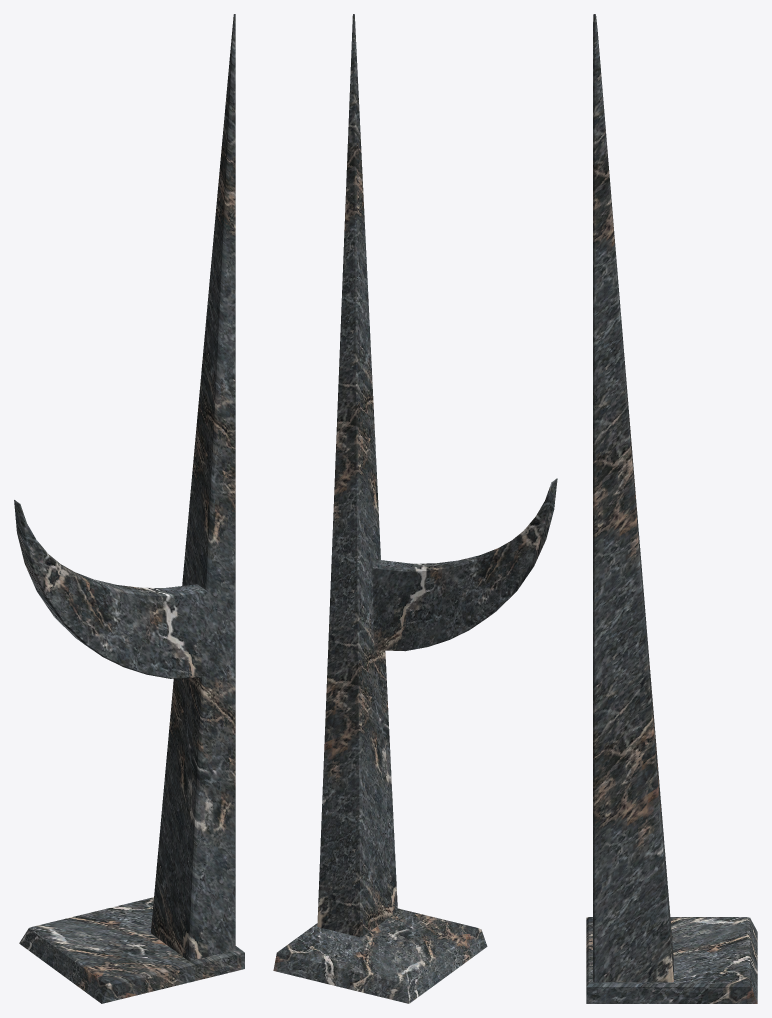
The model's file is frn_quest_fs_sculpture_1_l0.fbx.
The picture shows the model from 3 angles, left to right: view 1: azimuth 30°, elevation 25°; view 2: azimuth 150°, elevation 25°; view 3: azimuth 270°, elevation 25°; orthographic projection. The views are drawn at different scales.
Parts seen in each view (by area): view 1: mesh_node; view 2: mesh_node; view 3: mesh_node.
Boxes of the visible parts, box(x1,y1,x2,y2) form: mesh_node: box(14, 14, 244, 1003); mesh_node: box(273, 14, 557, 1003); mesh_node: box(586, 14, 757, 1003).
Size of the model in its own units: 0.6176 by 2.54 by 0.4.
